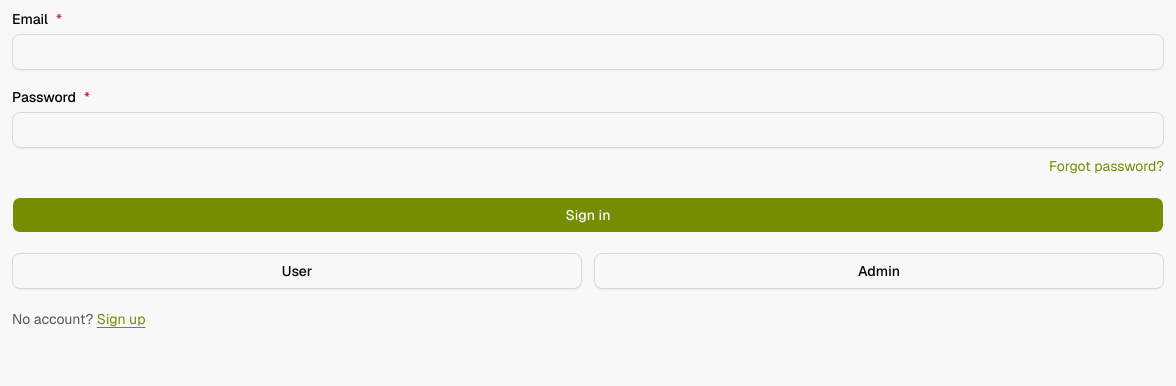
Scenario: LoginForm › shows the server message on failure
This screenshot has width=1176, height=386.
Type "who@example.com" into the field labelled "Email *" at {"x": 588, "y": 52}, box [12,34,1164,70]
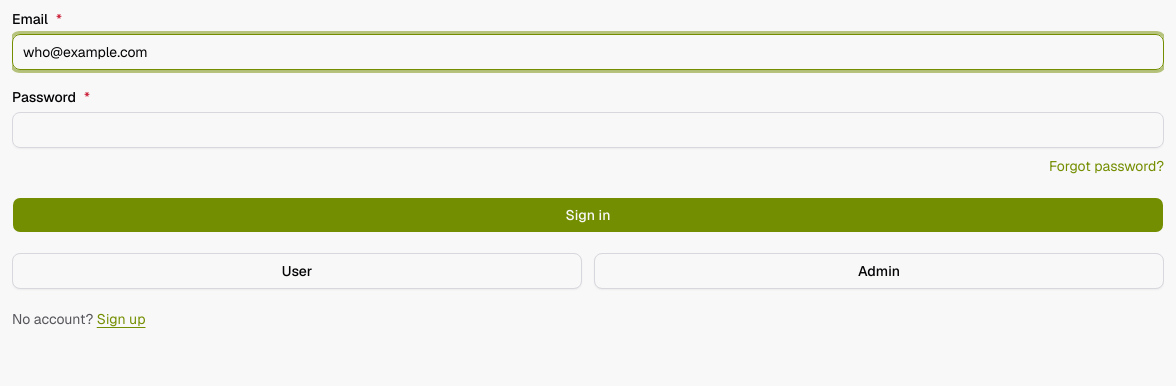
Type "secret" into the password field labelled "Password *" at {"x": 588, "y": 130}, box [12,112,1164,148]
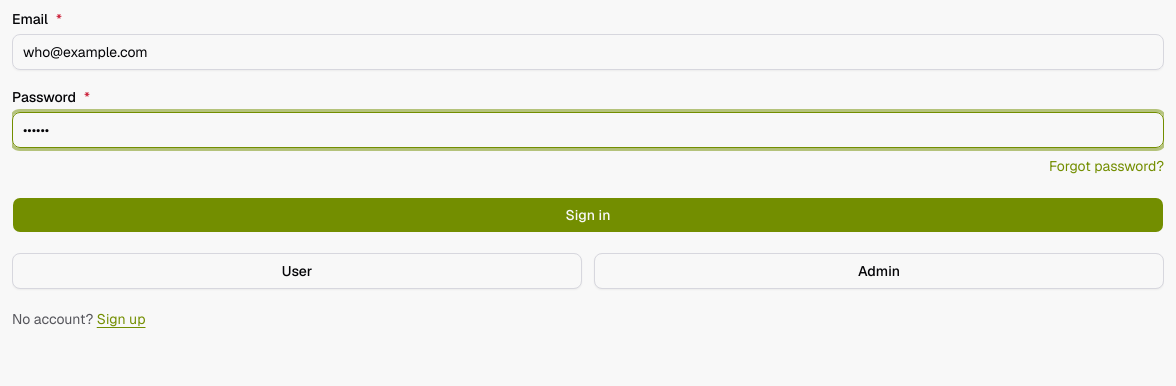
Click the button "Sign in" at {"x": 588, "y": 215}, box [12,197,1164,233]
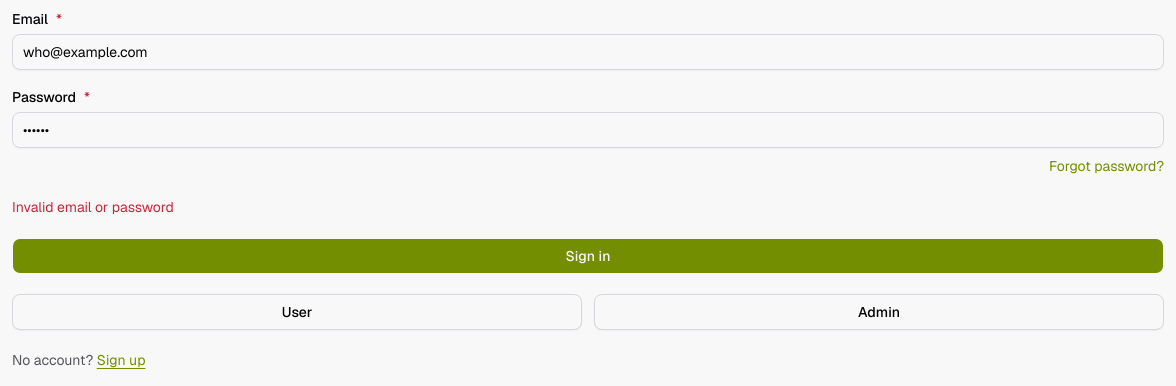
Check: the message reads "Invalid email or password", box [12,198,174,216]
